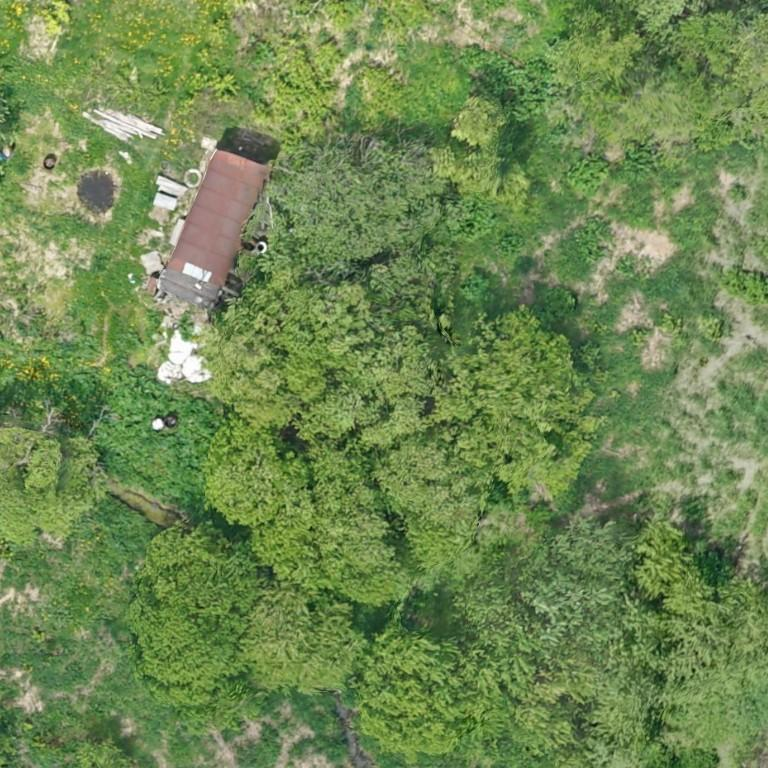hogweed: (94, 363, 220, 516)
